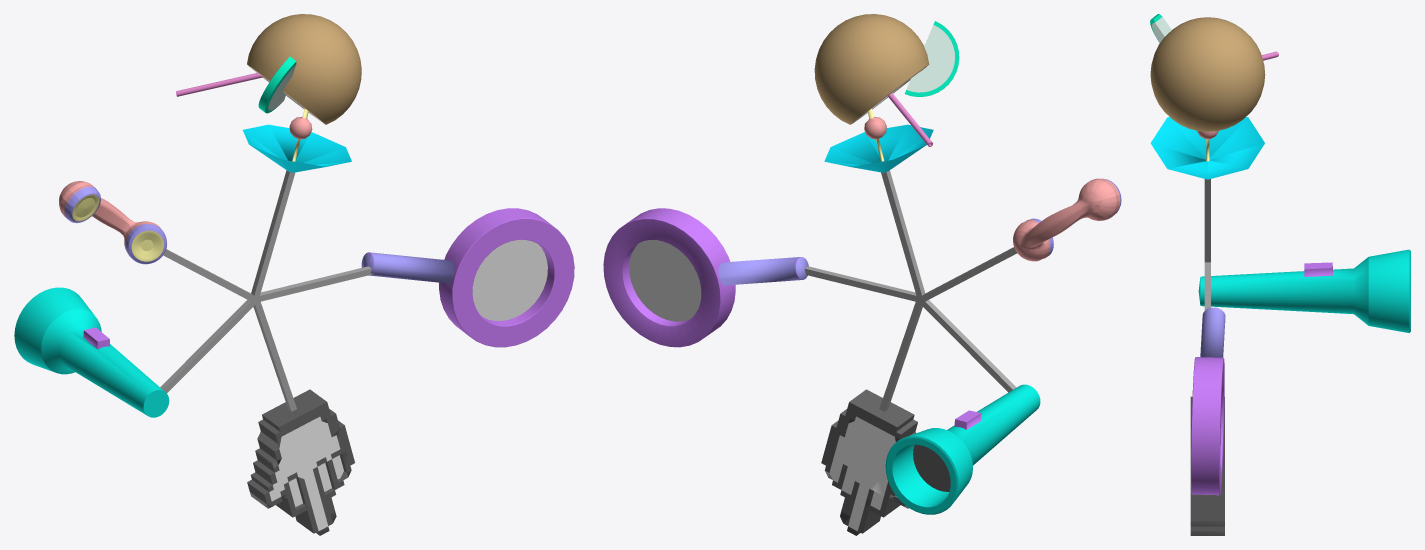
The model's file is ToolWheel.fbx.
3 views of the same model, side by side, from view 1: azimuth 30°, elevation 25°; view 2: azimuth 150°, elevation 25°; view 3: azimuth 270°, elevation 25° (orthographic).
Parts seen in each view (by area): view 1: Enclosure, MiddleFinger, Flashlight, Coconut, wheel2, BottomGlass, Phone1, Umbrella, Lime; view 2: Enclosure, Flashlight, Coconut, MiddleFinger, wheel2, TopGlass, Phone1, Umbrella, Lime; view 3: Coconut, Flashlight, Enclosure, Umbrella, MiddleFinger, wheel2, Lime.
Boxes of the visible parts, box(x1,y1,x2,y2) form: Enclosure: box(361, 208, 574, 347); MiddleFinger: box(247, 389, 354, 535); Flashlight: box(14, 287, 169, 417); Coconut: box(247, 14, 361, 124); wheel2: box(160, 170, 373, 411); BottomGlass: box(472, 240, 547, 320); Phone1: box(59, 181, 166, 264); Umbrella: box(243, 109, 351, 172); Lime: box(258, 56, 296, 113); Enclosure: box(603, 208, 808, 347); Flashlight: box(885, 384, 1040, 514); Coconut: box(814, 14, 929, 124); MiddleFinger: box(821, 389, 917, 535); wheel2: box(804, 170, 1017, 411); TopGlass: box(629, 240, 701, 321); Phone1: box(1013, 178, 1121, 261); Umbrella: box(824, 108, 933, 172); Lime: box(904, 21, 959, 96); Coconut: box(1150, 17, 1265, 131); Flashlight: box(1198, 249, 1410, 332); Enclosure: box(1191, 307, 1225, 495); Umbrella: box(1150, 117, 1264, 179); MiddleFinger: box(1190, 396, 1224, 535); wheel2: box(1204, 179, 1210, 310); Lime: box(1150, 14, 1171, 43).
Bounding box in the file's own units: 1012 × 976 × 455.
